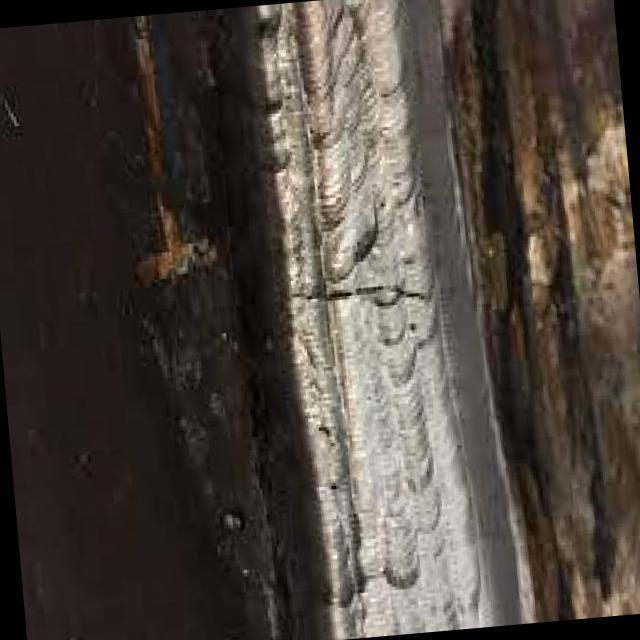defect: (281, 277, 432, 305)
